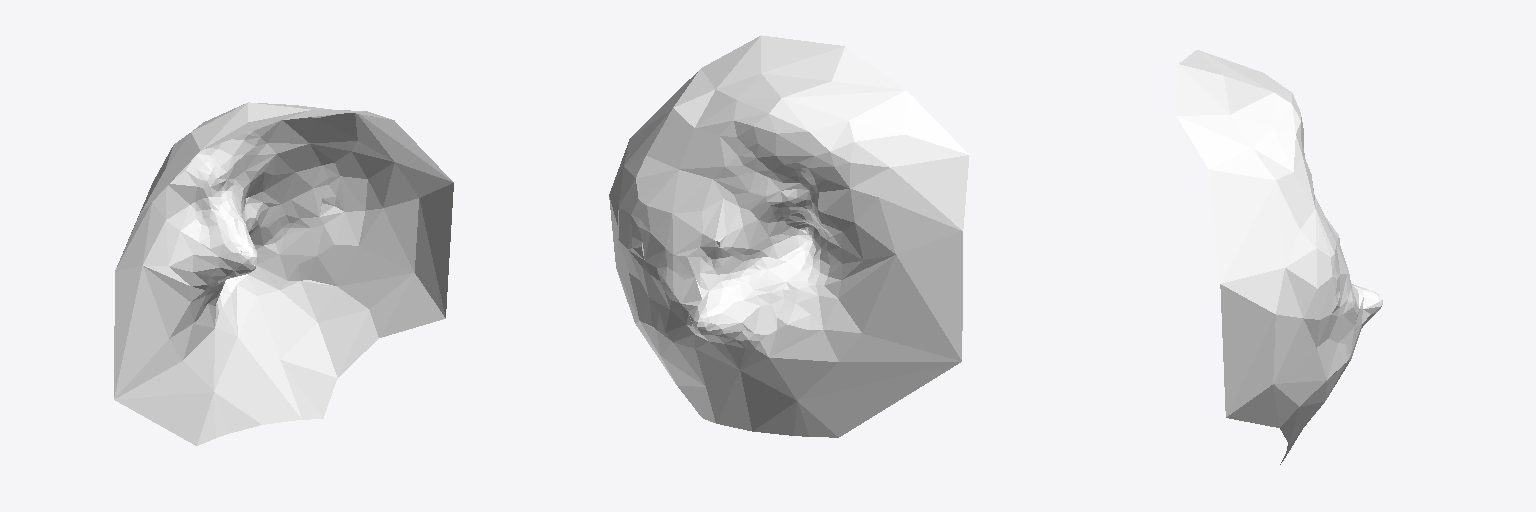
Rendered from whistle.obj.
3 views of the same model, side by side, from view 1: azimuth 30°, elevation 25°; view 2: azimuth 150°, elevation 25°; view 3: azimuth 270°, elevation 25° (orthographic).
Size of the model in its own units: 24.83 by 25.26 by 13.22.